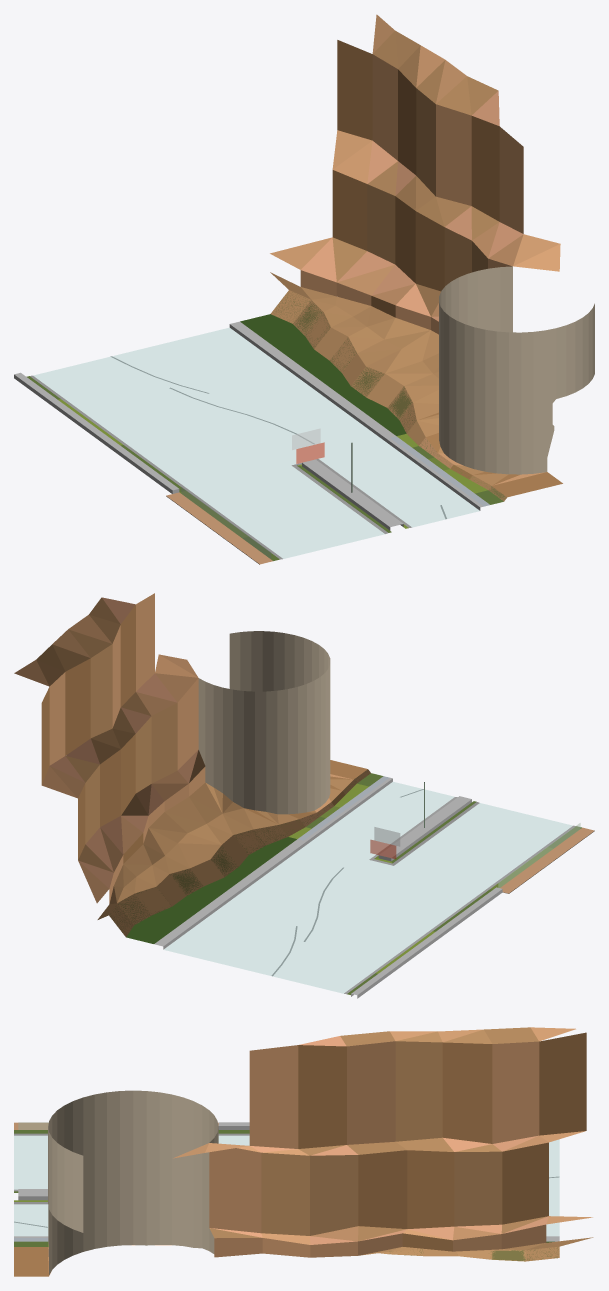
3 views of the same model, one above another, from view 1: azimuth 30°, elevation 25°; view 2: azimuth 150°, elevation 25°; view 3: azimuth 270°, elevation 25° (orthographic). The views are drawn at different scales.
Parts seen in each view (by area): view 1: O1F69F; view 2: O1F69F; view 3: O1F69F.
Part boxes in pixels (bbox=[...]): O1F69F: bbox=[14, 14, 594, 564]; O1F69F: bbox=[14, 593, 594, 998]; O1F69F: bbox=[14, 1027, 593, 1276].
Bounding box in the file's own units: 115 × 76 × 136.
